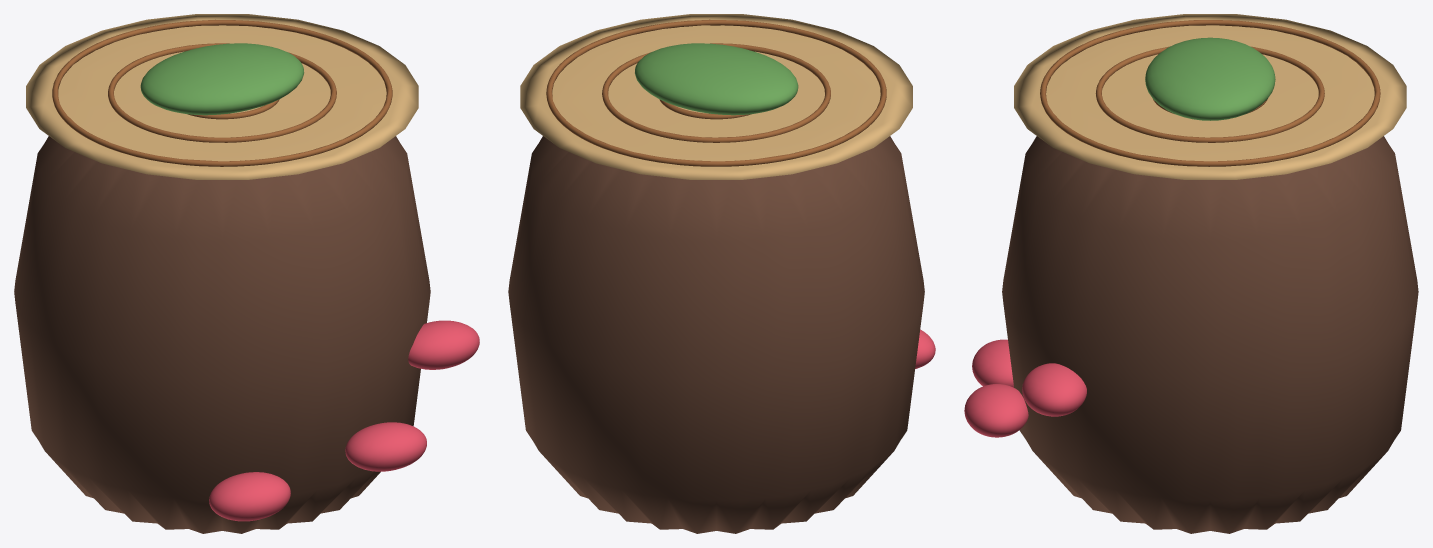
File: deco_tronco.glb
3 renders of one model, left to right at view 1: azimuth 30°, elevation 25°; view 2: azimuth 150°, elevation 25°; view 3: azimuth 270°, elevation 25°, orthographic.
Parts seen in each view (by area): view 1: tronco.001, corte tronco.001, musgo tronco.001, anillo tronco 2.001, hongo tronco 0.001, hongo tronco 2.001, hongo tronco 1.001, anillo tronco 1.001; view 2: tronco.001, corte tronco.001, musgo tronco.001, anillo tronco 2.001, anillo tronco 1.001, hongo tronco 2.001; view 3: tronco.001, corte tronco.001, musgo tronco.001, anillo tronco 2.001, hongo tronco 0.001, hongo tronco 1.001, anillo tronco 1.001, hongo tronco 2.001.
Boxes of the visible parts, box(x1,y1,x2,y2) form: tronco.001: box(14, 136, 430, 533); corte tronco.001: box(26, 14, 418, 179); musgo tronco.001: box(140, 43, 304, 115); anillo tronco 2.001: box(52, 19, 392, 166); hongo tronco 0.001: box(345, 422, 426, 471); hongo tronco 2.001: box(209, 472, 290, 521); hongo tronco 1.001: box(408, 320, 479, 369); anillo tronco 1.001: box(108, 43, 336, 142); tronco.001: box(508, 136, 924, 533); corte tronco.001: box(520, 14, 912, 179); musgo tronco.001: box(635, 43, 798, 115); anillo tronco 2.001: box(546, 19, 886, 166); anillo tronco 1.001: box(602, 43, 830, 142); hongo tronco 2.001: box(915, 329, 935, 368); tronco.001: box(1002, 136, 1418, 533); corte tronco.001: box(1014, 14, 1406, 179); musgo tronco.001: box(1145, 37, 1275, 120); anillo tronco 2.001: box(1040, 20, 1380, 166); hongo tronco 0.001: box(964, 384, 1028, 437); hongo tronco 1.001: box(1022, 363, 1086, 416); anillo tronco 1.001: box(1095, 46, 1324, 142); hongo tronco 2.001: box(972, 339, 1013, 387).
Size of the model in its own units: 0.373 by 0.4195 by 0.4068.
